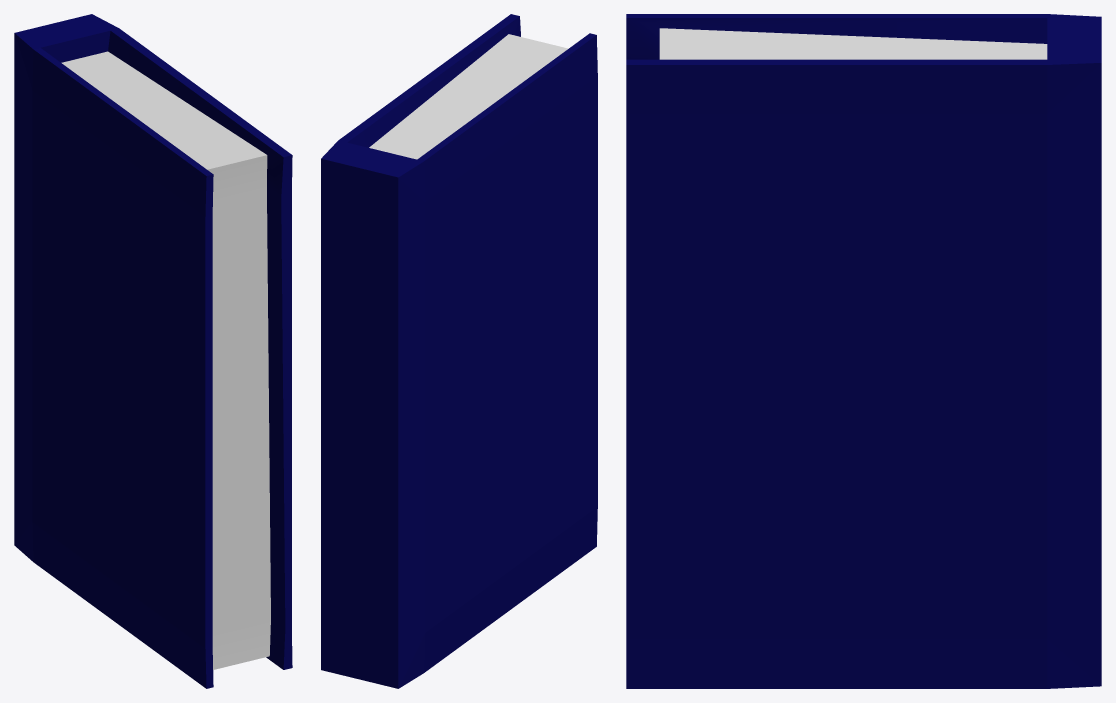
Rendered from Big_Book_Blue.fbx.
3 renders of one model, left to right at view 1: azimuth 30°, elevation 25°; view 2: azimuth 150°, elevation 25°; view 3: azimuth 270°, elevation 25°, orthographic. The views are drawn at different scales.
Parts seen in each view (by area): view 1: Book1; view 2: Book1; view 3: Book1.
Part boxes in pixels (x1=…): Book1: x1=14, y1=14, x2=292, y2=688; Book1: x1=321, y1=14, x2=597, y2=688; Book1: x1=626, y1=14, x2=1101, y2=688.
Size of the model in its own units: 0.09 by 0.5071 by 0.3501.
